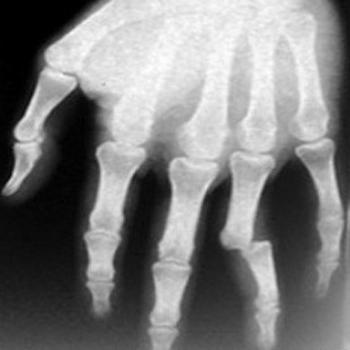Fracture: (216, 230, 281, 266)
